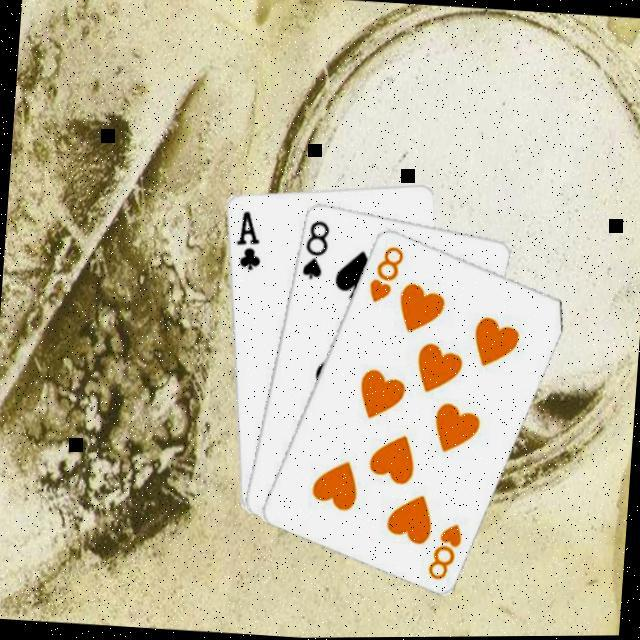8H: (364, 242, 406, 308), (423, 519, 465, 584)
8S: (296, 217, 330, 284)
AC: (229, 207, 264, 274)
